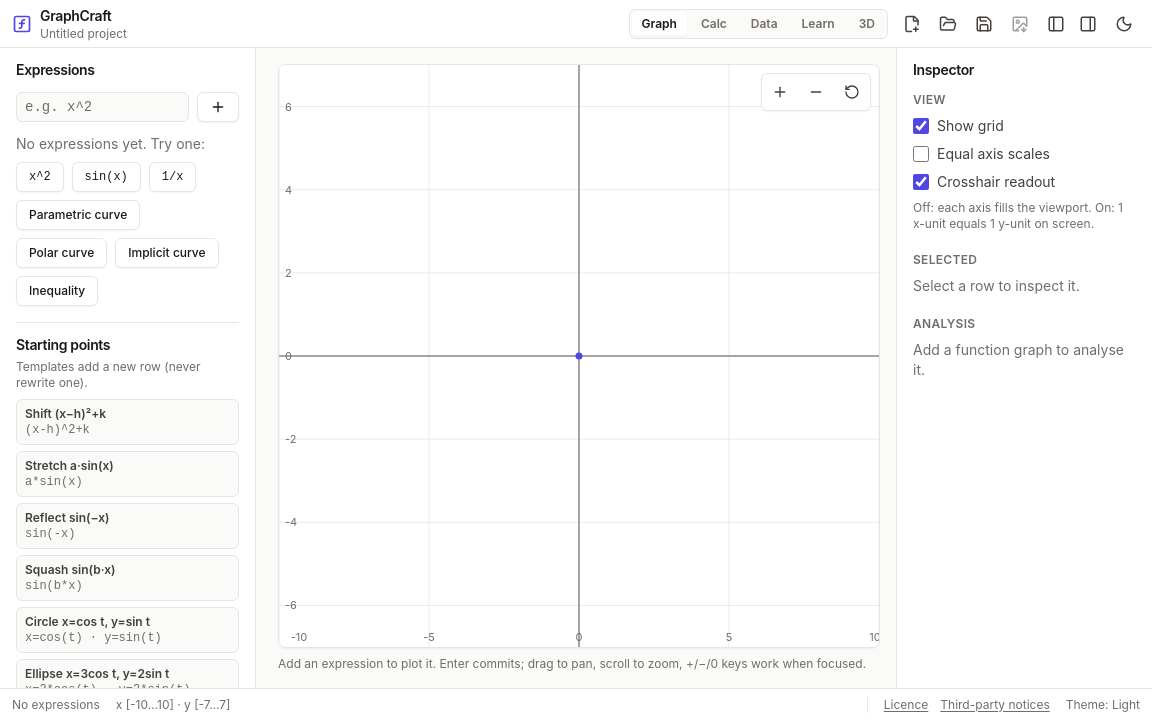
it: data plot workflow › bins a histogram with documented Sturges behaviour
The width and height of the screenshot is (1152, 720).
Click the button with aria-label "Show data lab": [764, 24] box x1=741 y1=12 x2=788 y2=36
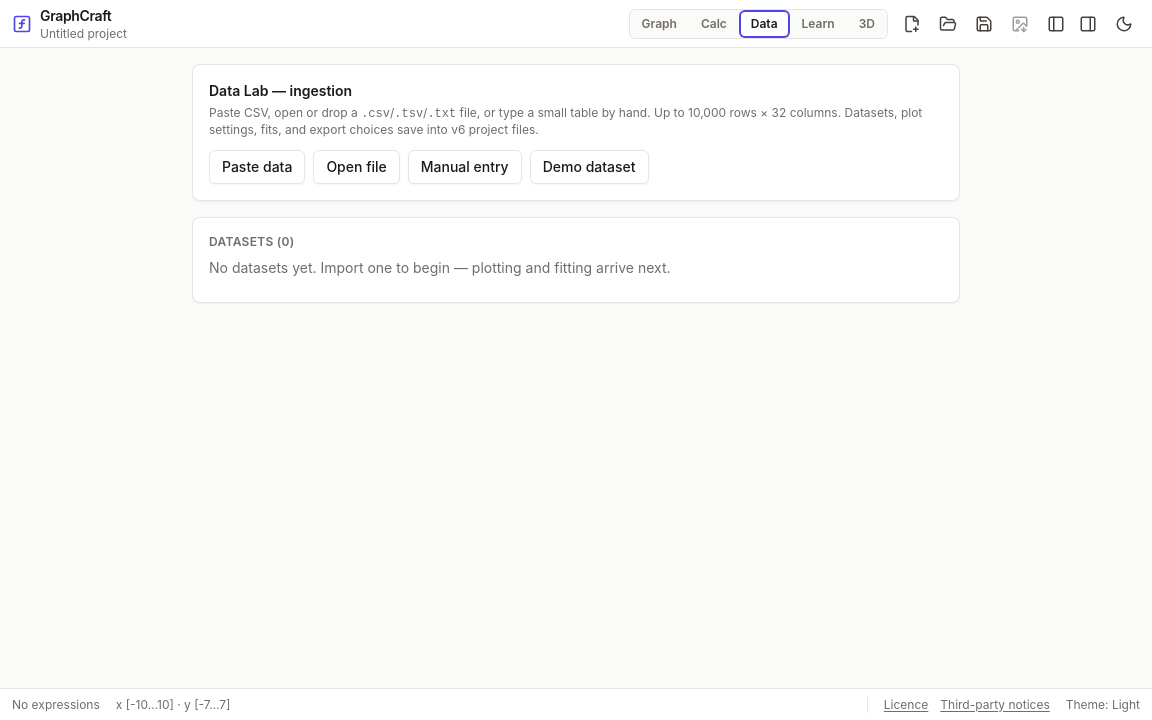
Expected: the heading "Data Lab — ingestion" is shown, x1=209 y1=82 x2=352 y2=99
Expected: the button "Paste data" is shown, x1=209 y1=150 x2=305 y2=184
Click the button "Demo dataset": [589, 167] box x1=530 y1=150 x2=649 y2=184
(page scrolled)
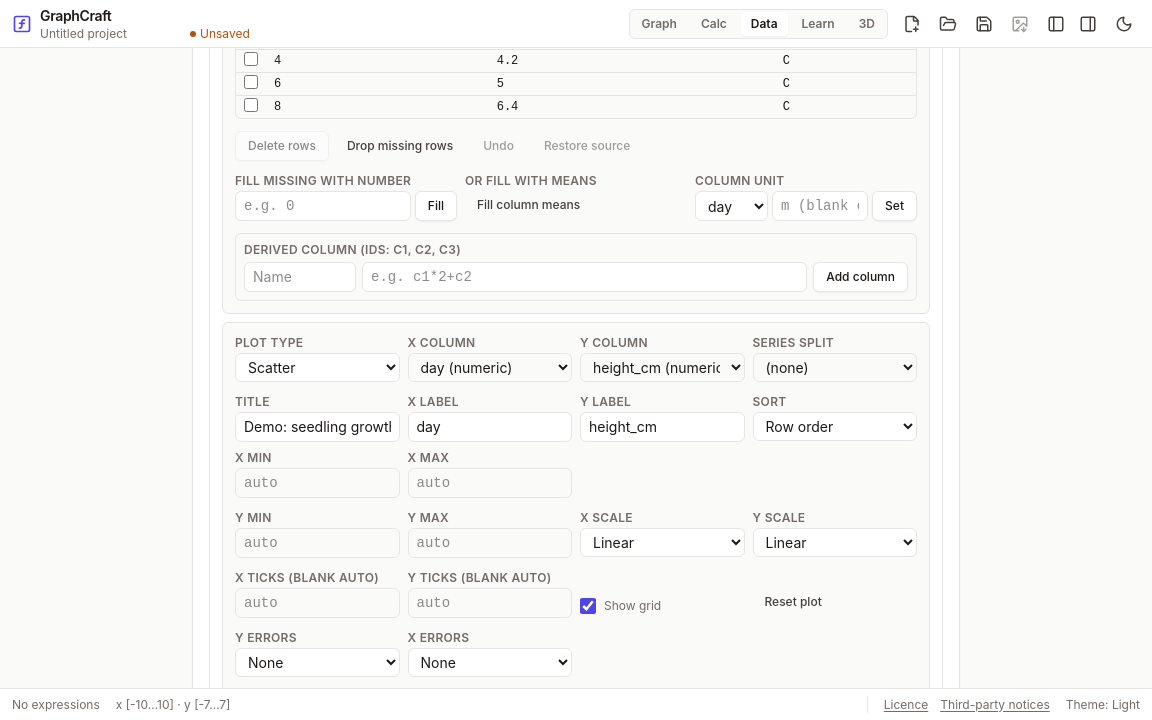
Select "Histogram (bins Y)" in the dropdown labelled "Plot type": [317, 368] box x1=235 y1=353 x2=400 y2=382
(page scrolled)
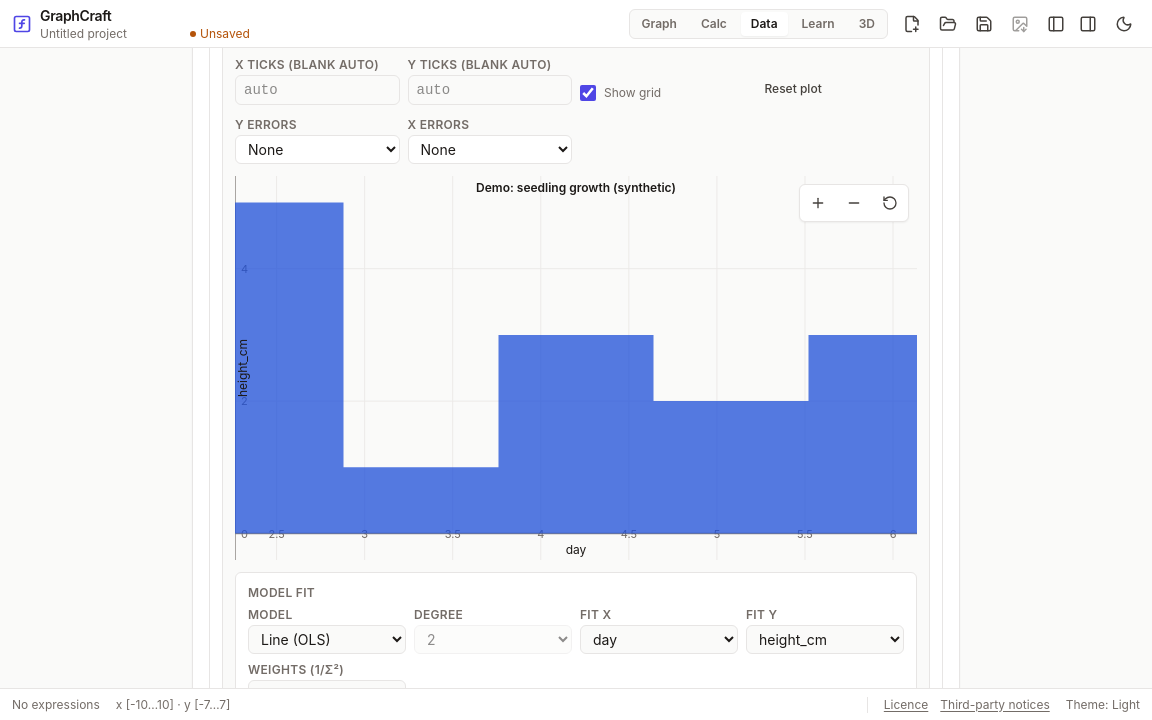
Expected: the picture named "histogram plot" is shown, x1=235 y1=176 x2=917 y2=560
